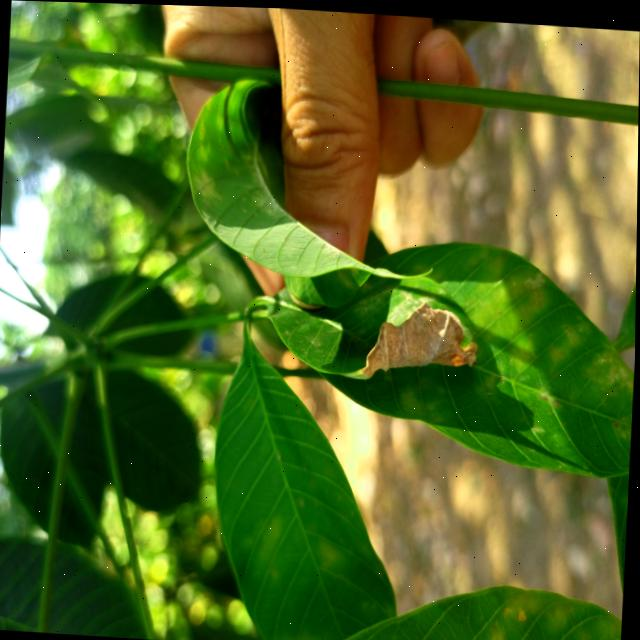Leaf-Blight: (363, 294, 481, 379)
